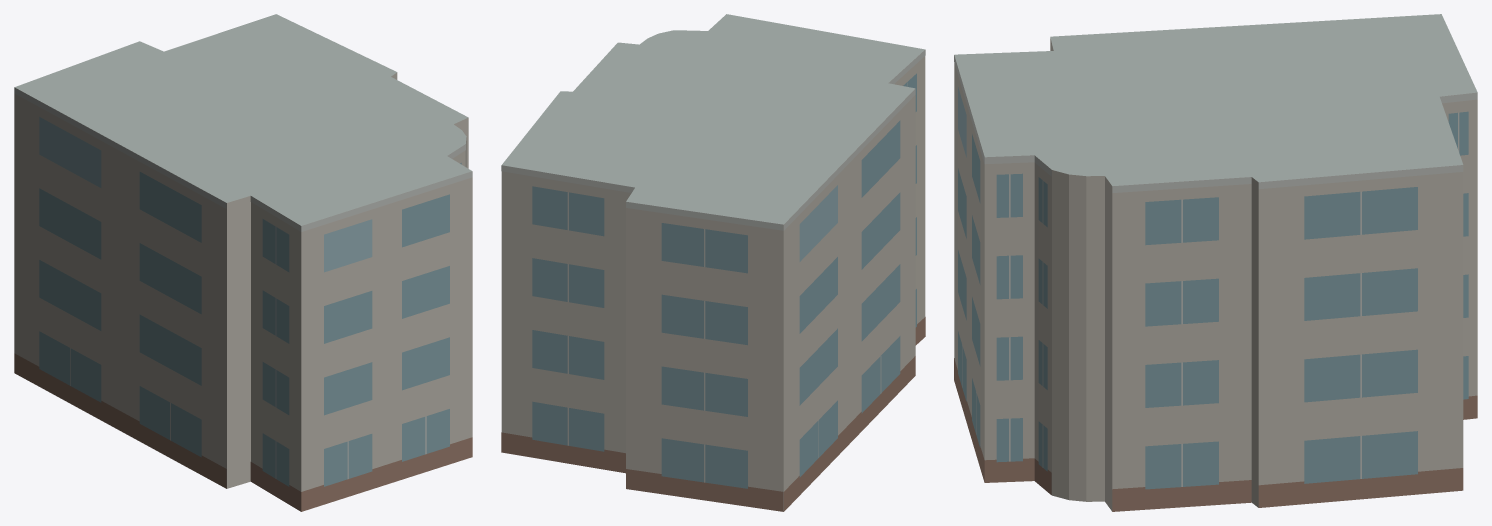
Rendered from survey-upis-32958455.glb.
3 views of the same model, side by side, from view 1: azimuth 30°, elevation 25°; view 2: azimuth 150°, elevation 25°; view 3: azimuth 270°, elevation 25° (orthographic). The views are drawn at different scales.
Parts seen in each view (by area): view 1: survey-upis-32958455.tmp; view 2: survey-upis-32958455.tmp; view 3: survey-upis-32958455.tmp.
Boxes of the visible parts, x1,y1,x2,y2 form: survey-upis-32958455.tmp: (14, 14, 472, 511); survey-upis-32958455.tmp: (501, 14, 925, 511); survey-upis-32958455.tmp: (954, 14, 1477, 511).
Bounding box in the file's own units: 12.94 × 11.4 × 16.62.
